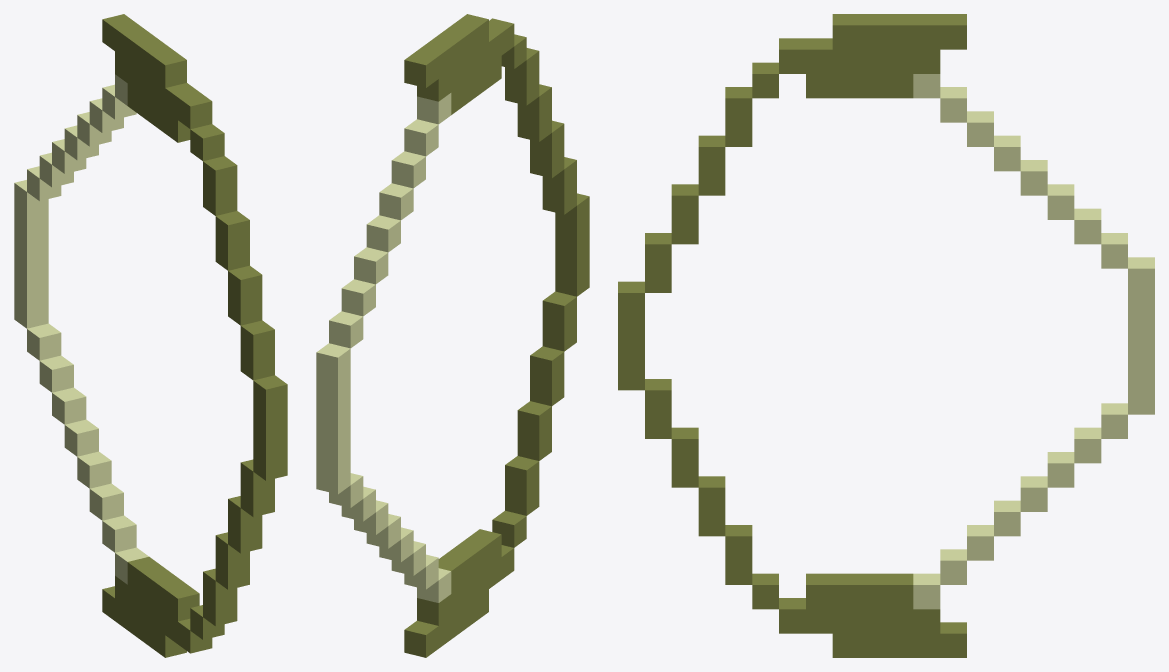
The model's file is zunko_Bow3.obj.
3 views of the same model, side by side, from view 1: azimuth 30°, elevation 25°; view 2: azimuth 150°, elevation 25°; view 3: azimuth 270°, elevation 25° (orthographic). The views are drawn at different scales.
Parts seen in each view (by area): view 1: zunko_Bow3; view 2: zunko_Bow3; view 3: zunko_Bow3.
Boxes of the visible parts, x1,y1,x2,y2 form: zunko_Bow3: [14, 14, 287, 657]; zunko_Bow3: [316, 14, 589, 657]; zunko_Bow3: [618, 14, 1154, 657].
Bounding box in the file's own units: 1 × 26 × 20.
Materials: 1 (1 with a texture image).
